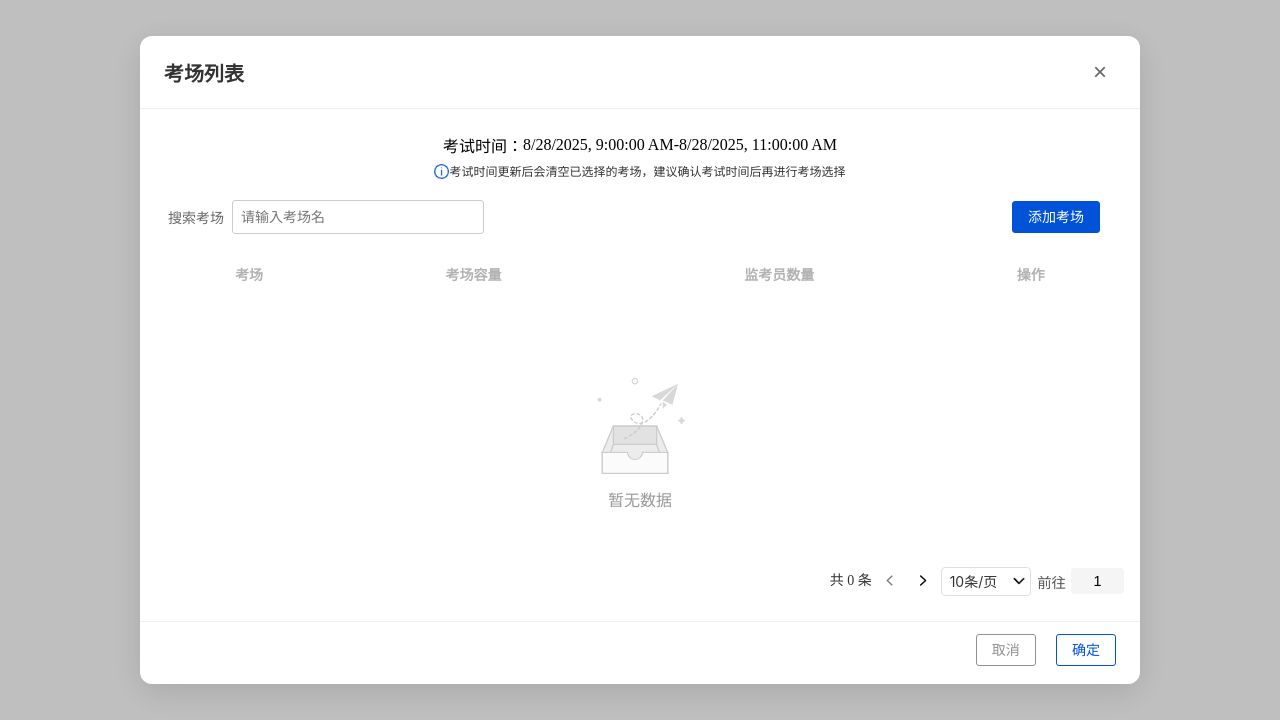
Test: ExaminationRoomSelectionPanel 组件测试 › 模式切换 › 在查看模式和选择模式之间切换
Expected: the text "考场列表" is shown, [164,58,244,86]
Click the button "添加考场" at (1056, 217), box [1012,201,1100,233]
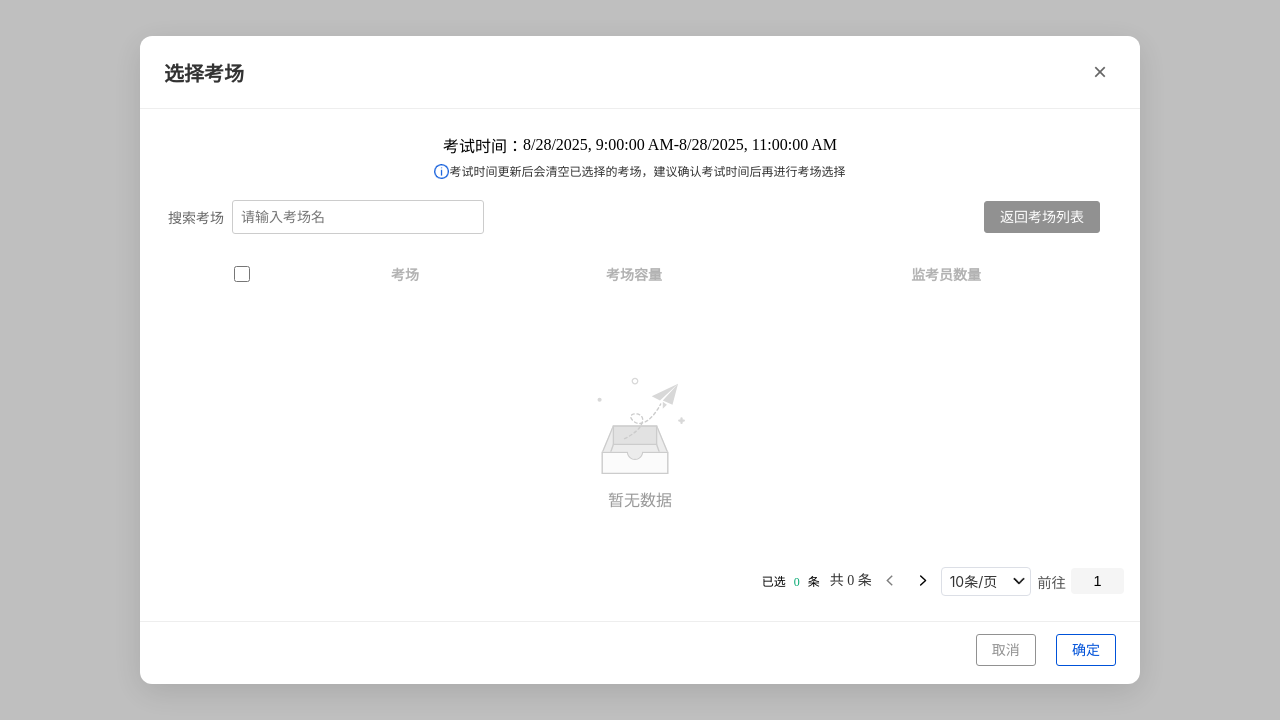
Result: the text "选择考场" is shown at [164,58,244,86]
Result: the button "返回考场列表" is shown
Click the button "返回考场列表" at (1042, 217), box [984,201,1100,233]
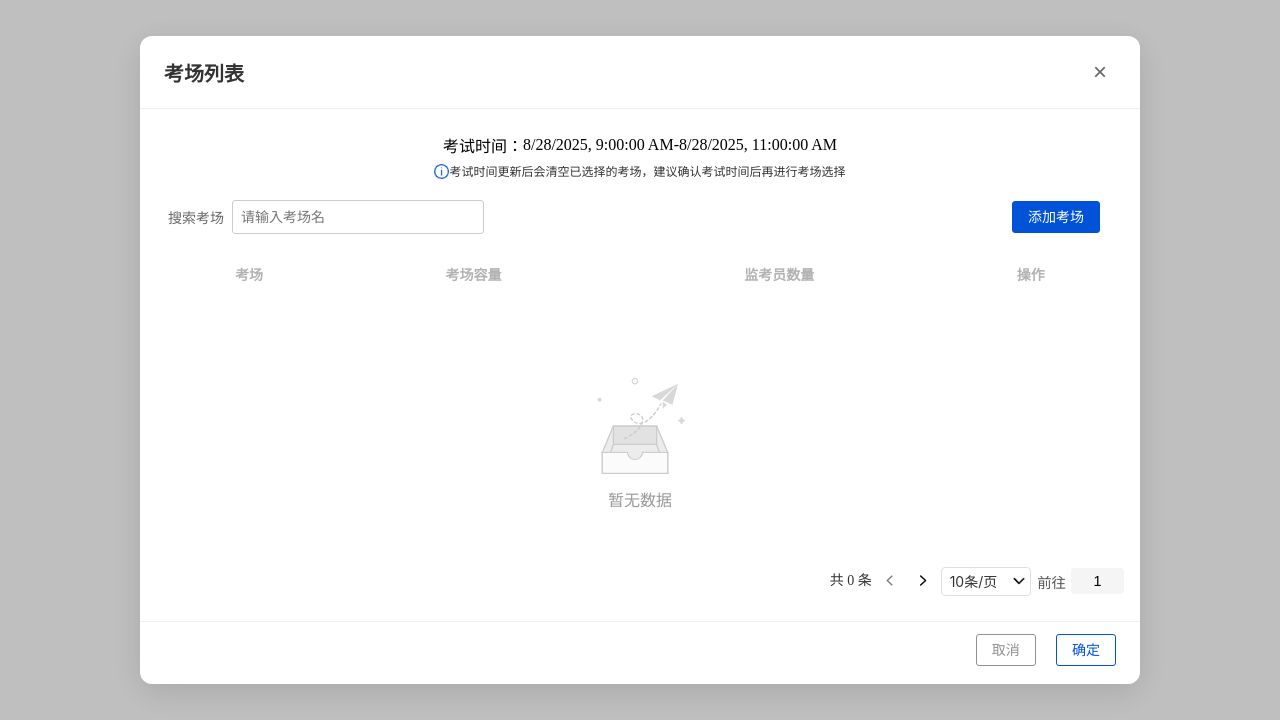
Result: the text "考场列表" is shown at [164,58,244,86]
Result: the button "添加考场" is shown at [1012,201,1100,233]
